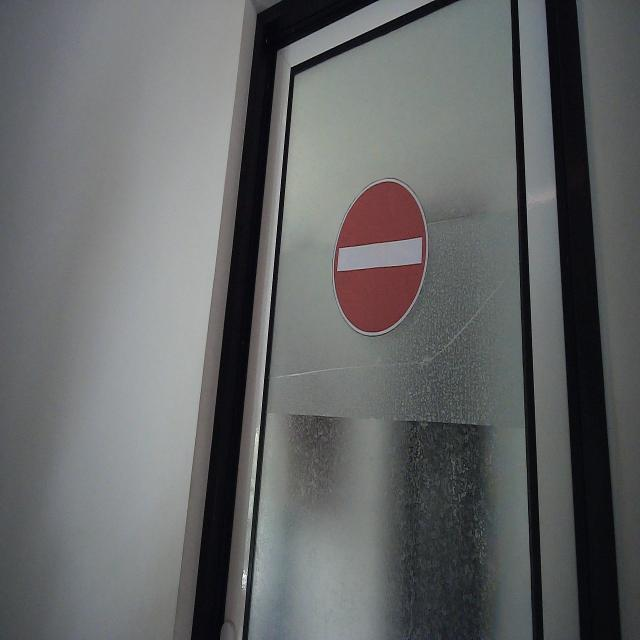no_entry: (332, 175, 430, 339)
